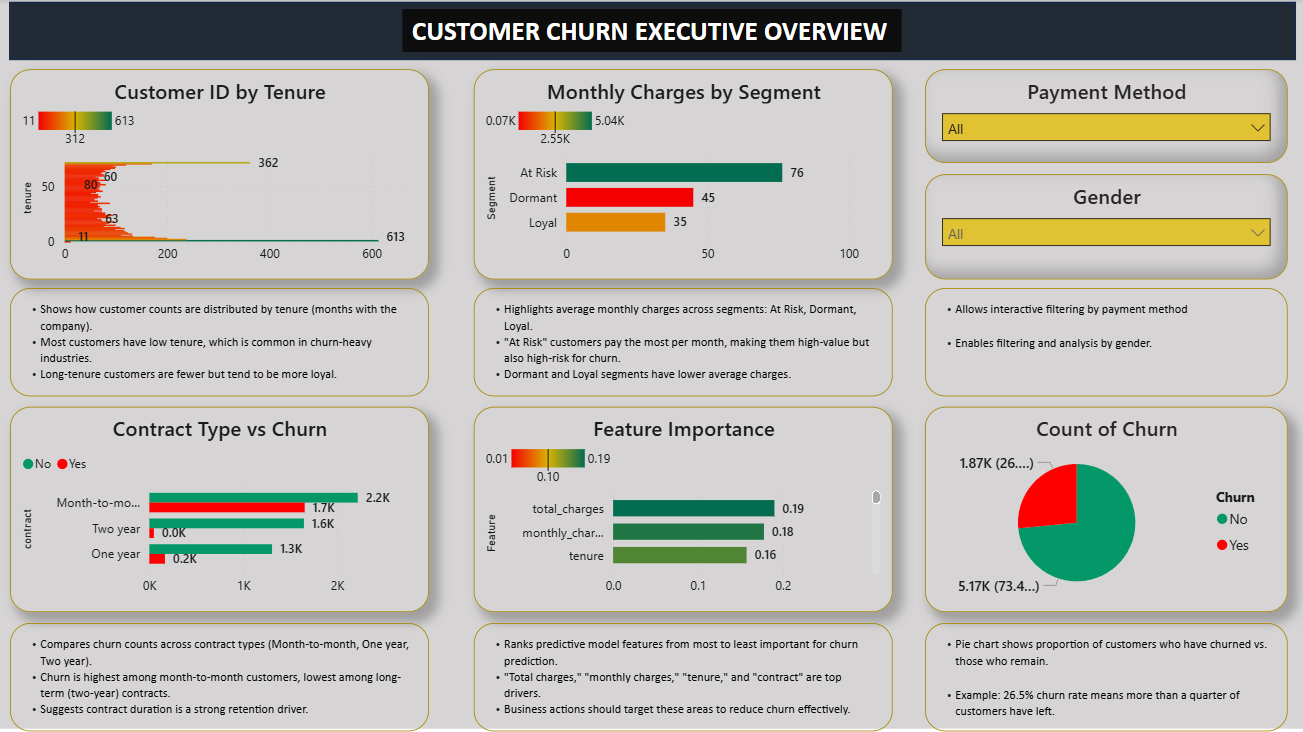

The dashboard page shown, as its layout file describes it:
{"tool":"powerbi","page":{"name":"ANALYSIS","canvas":[1280,720],"ordinal":0},"visuals":[{"type":"pieChart","title":"Count of Churn","fields":{"Category":["Telecom_Customer_Churn.churn"],"Y":["CountNonNull(Telecom_Customer_Churn.churn)"]},"box":[908,401.2,355.8,201.2],"z":0},{"type":"barChart","title":"Customer ID by Tenure","fields":{"Category":["Telecom_Customer_Churn.tenure"],"Y":["CountNonNull(Telecom_Customer_Churn.customer_id)"]},"box":[9.8,69.9,411,206.1],"z":1},{"type":"clusteredBarChart","title":"Monthly Charges by Segment","fields":{"Category":["Telecom_Customer_Churn.Segment"],"Y":["Avg(Telecom_Customer_Churn.monthly_charges)"]},"box":[465,69.9,411,206.1],"z":2},{"type":"clusteredBarChart","title":"Contract Type vs Churn","fields":{"Category":["Telecom_Customer_Churn.contract"],"Y":["CountNonNull(Telecom_Customer_Churn.customer_id)"],"Series":["Telecom_Customer_Churn.churn"]},"box":[9.8,401.2,411,201.2],"z":3},{"type":"clusteredBarChart","title":"Feature Importance","fields":{"Category":["feature_importance.Feature"],"Y":["Sum(feature_importance.Importance)"]},"box":[465,401.2,411,201.2],"z":4},{"type":"slicer","title":"Payment Method","fields":{"Values":["Telecom_Customer_Churn.payment_method"]},"box":[908,69.9,355.8,92],"z":5},{"type":"slicer","title":"Gender","fields":{"Values":["Telecom_Customer_Churn.gender"]},"box":[908,173,355.8,103.1],"z":6},{"type":"textbox","box":[9.8,284.7,411,106.7],"z":7},{"type":"textbox","box":[465,284.7,411,106.7],"z":8},{"type":"textbox","box":[9.8,613.5,411,106.7],"z":9},{"type":"textbox","box":[465,613.5,411,106.7],"z":10},{"type":"textbox","box":[908,613.5,355.8,106.7],"z":11},{"type":"textbox","box":[908,284.7,355.8,106.7],"z":12}]}

Visuals, with their boxes in screenshot pixels (x1, y1, x2, y2), scaled from the page's 1280x720 canvas onto the 1303x732 screenshot:
"Count of Churn" pieChart: [924, 408, 1287, 612]
"Customer ID by Tenure" barChart: [10, 71, 428, 281]
"Monthly Charges by Segment" clusteredBarChart: [473, 71, 892, 281]
"Contract Type vs Churn" clusteredBarChart: [10, 408, 428, 612]
"Feature Importance" clusteredBarChart: [473, 408, 892, 612]
"Payment Method" slicer: [924, 71, 1287, 165]
"Gender" slicer: [924, 176, 1287, 281]
textbox: [10, 289, 428, 398]
textbox: [473, 289, 892, 398]
textbox: [10, 624, 428, 731]
textbox: [473, 624, 892, 731]
textbox: [924, 624, 1287, 731]
textbox: [924, 289, 1287, 398]
